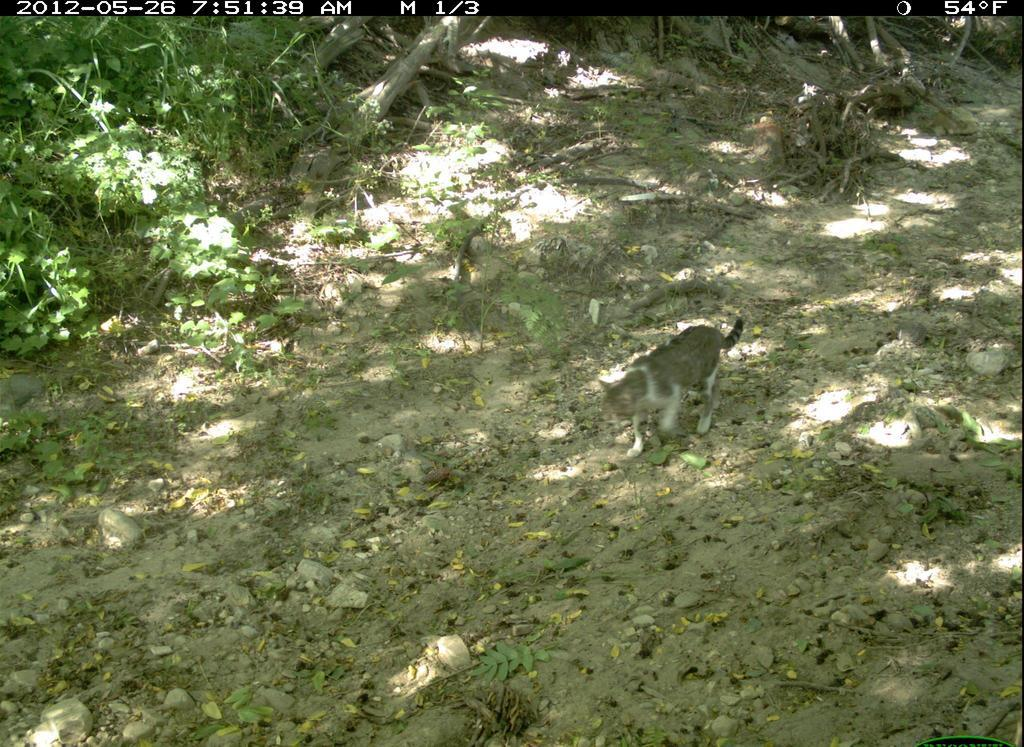cat: (589, 315, 761, 472)
